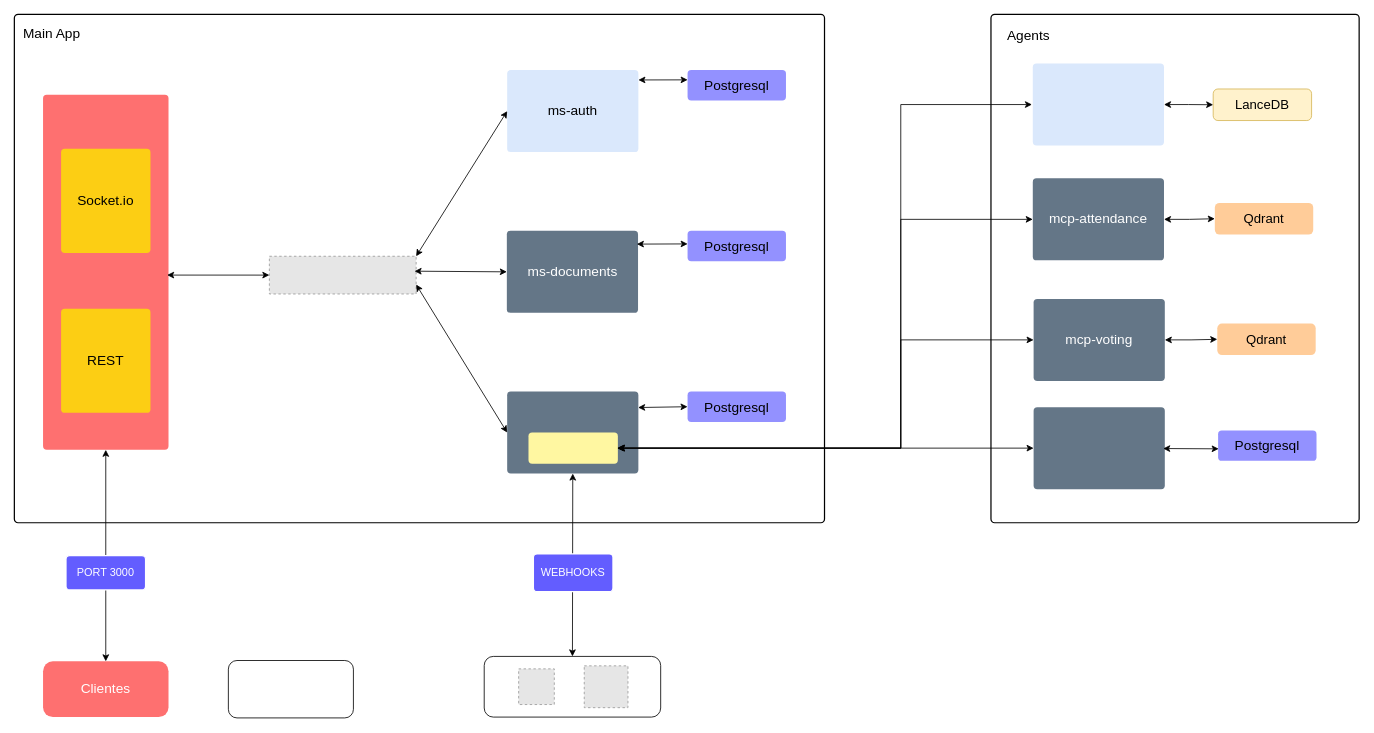
This 1374x733 diagram has some shape labels left out. Grey dashed boxes stand in for pictures. The shapes that lost their labels are listed below. From the top down, each one's box as (x1, y1, x2, y2) in pixels, then its label:
(1032, 63, 1164, 146): mcp-records
(42, 94, 169, 450): ms-gateway
(506, 391, 639, 474): ms-chats
(528, 432, 618, 464): LangGraph
(1033, 406, 1165, 489): mcp-procurement
(228, 660, 353, 718): Nginx (Port 8080)
